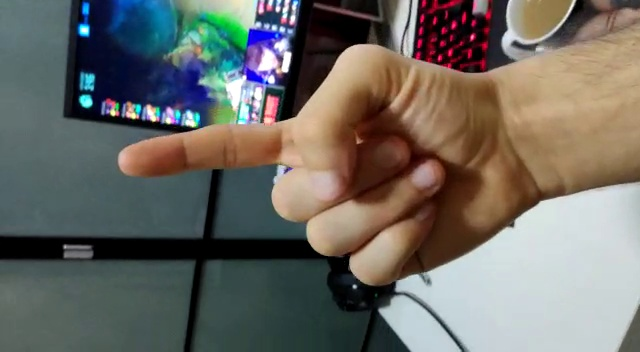One: (115, 93, 348, 212)
